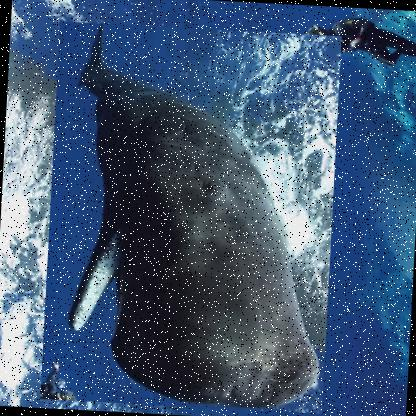sperm_whale: (39, 21, 341, 414)
